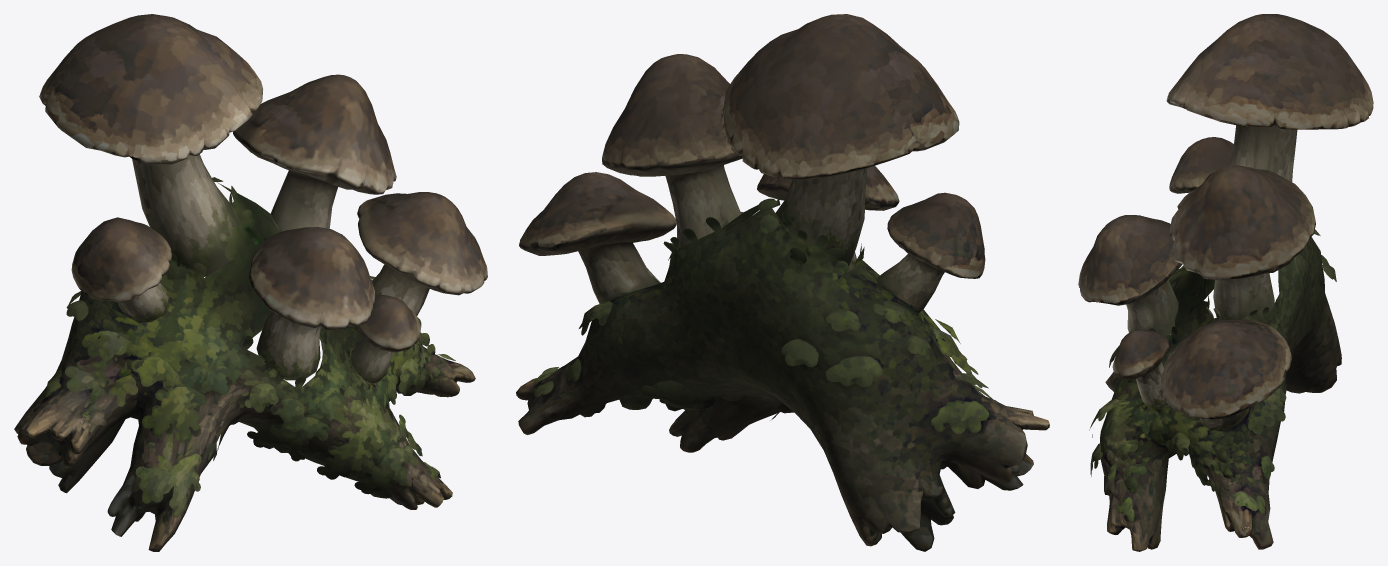
The model's file is clutter_mushroom_cluster.glb.
3 renders of one model, left to right at view 1: azimuth 30°, elevation 25°; view 2: azimuth 150°, elevation 25°; view 3: azimuth 270°, elevation 25°, orthographic. The views are drawn at different scales.
Visible parts, largest first — view 1: da686ee0_88a1_4b9b_851d_28a26c7ac8c0; view 2: da686ee0_88a1_4b9b_851d_28a26c7ac8c0; view 3: da686ee0_88a1_4b9b_851d_28a26c7ac8c0.
Boxes of the visible parts, x1=… form: da686ee0_88a1_4b9b_851d_28a26c7ac8c0: x1=14, y1=14, x2=487, y2=551; da686ee0_88a1_4b9b_851d_28a26c7ac8c0: x1=516, y1=14, x2=1049, y2=551; da686ee0_88a1_4b9b_851d_28a26c7ac8c0: x1=1078, y1=14, x2=1373, y2=551.
Size of the model in its own units: 0.9995 by 0.9995 by 0.6069.
Materials: 1 (1 with a texture image).
